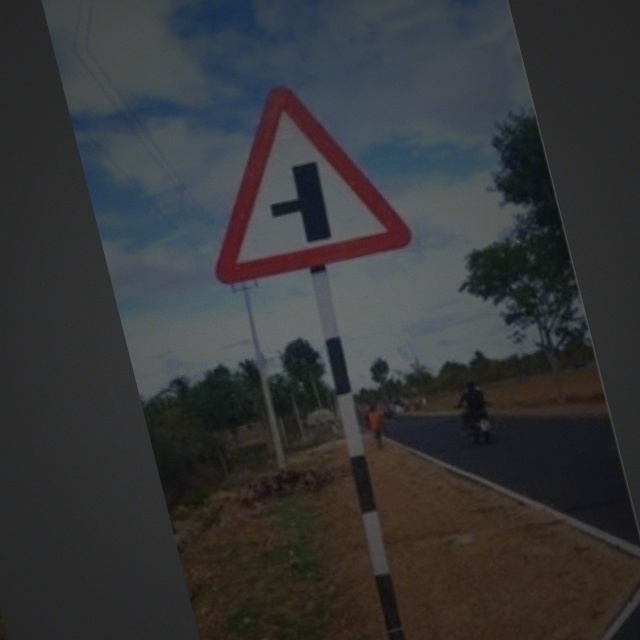Side_Road_Left: (179, 65, 418, 299)
